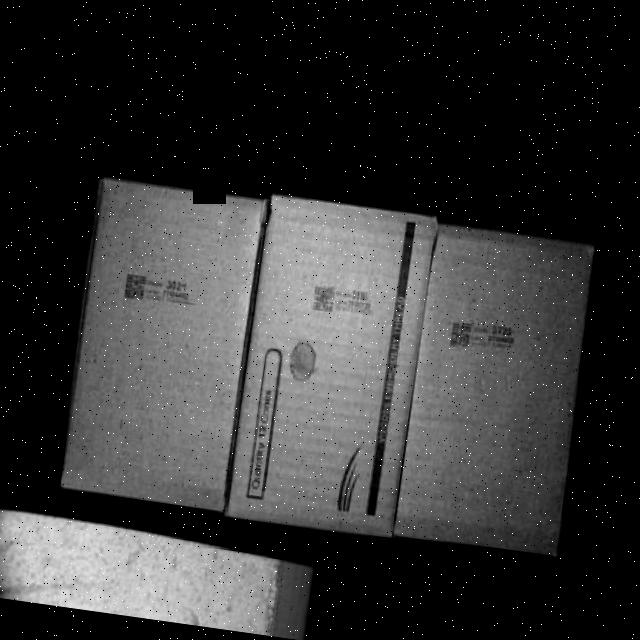box: (226, 195, 428, 539), (61, 178, 267, 514), (403, 222, 596, 554)
